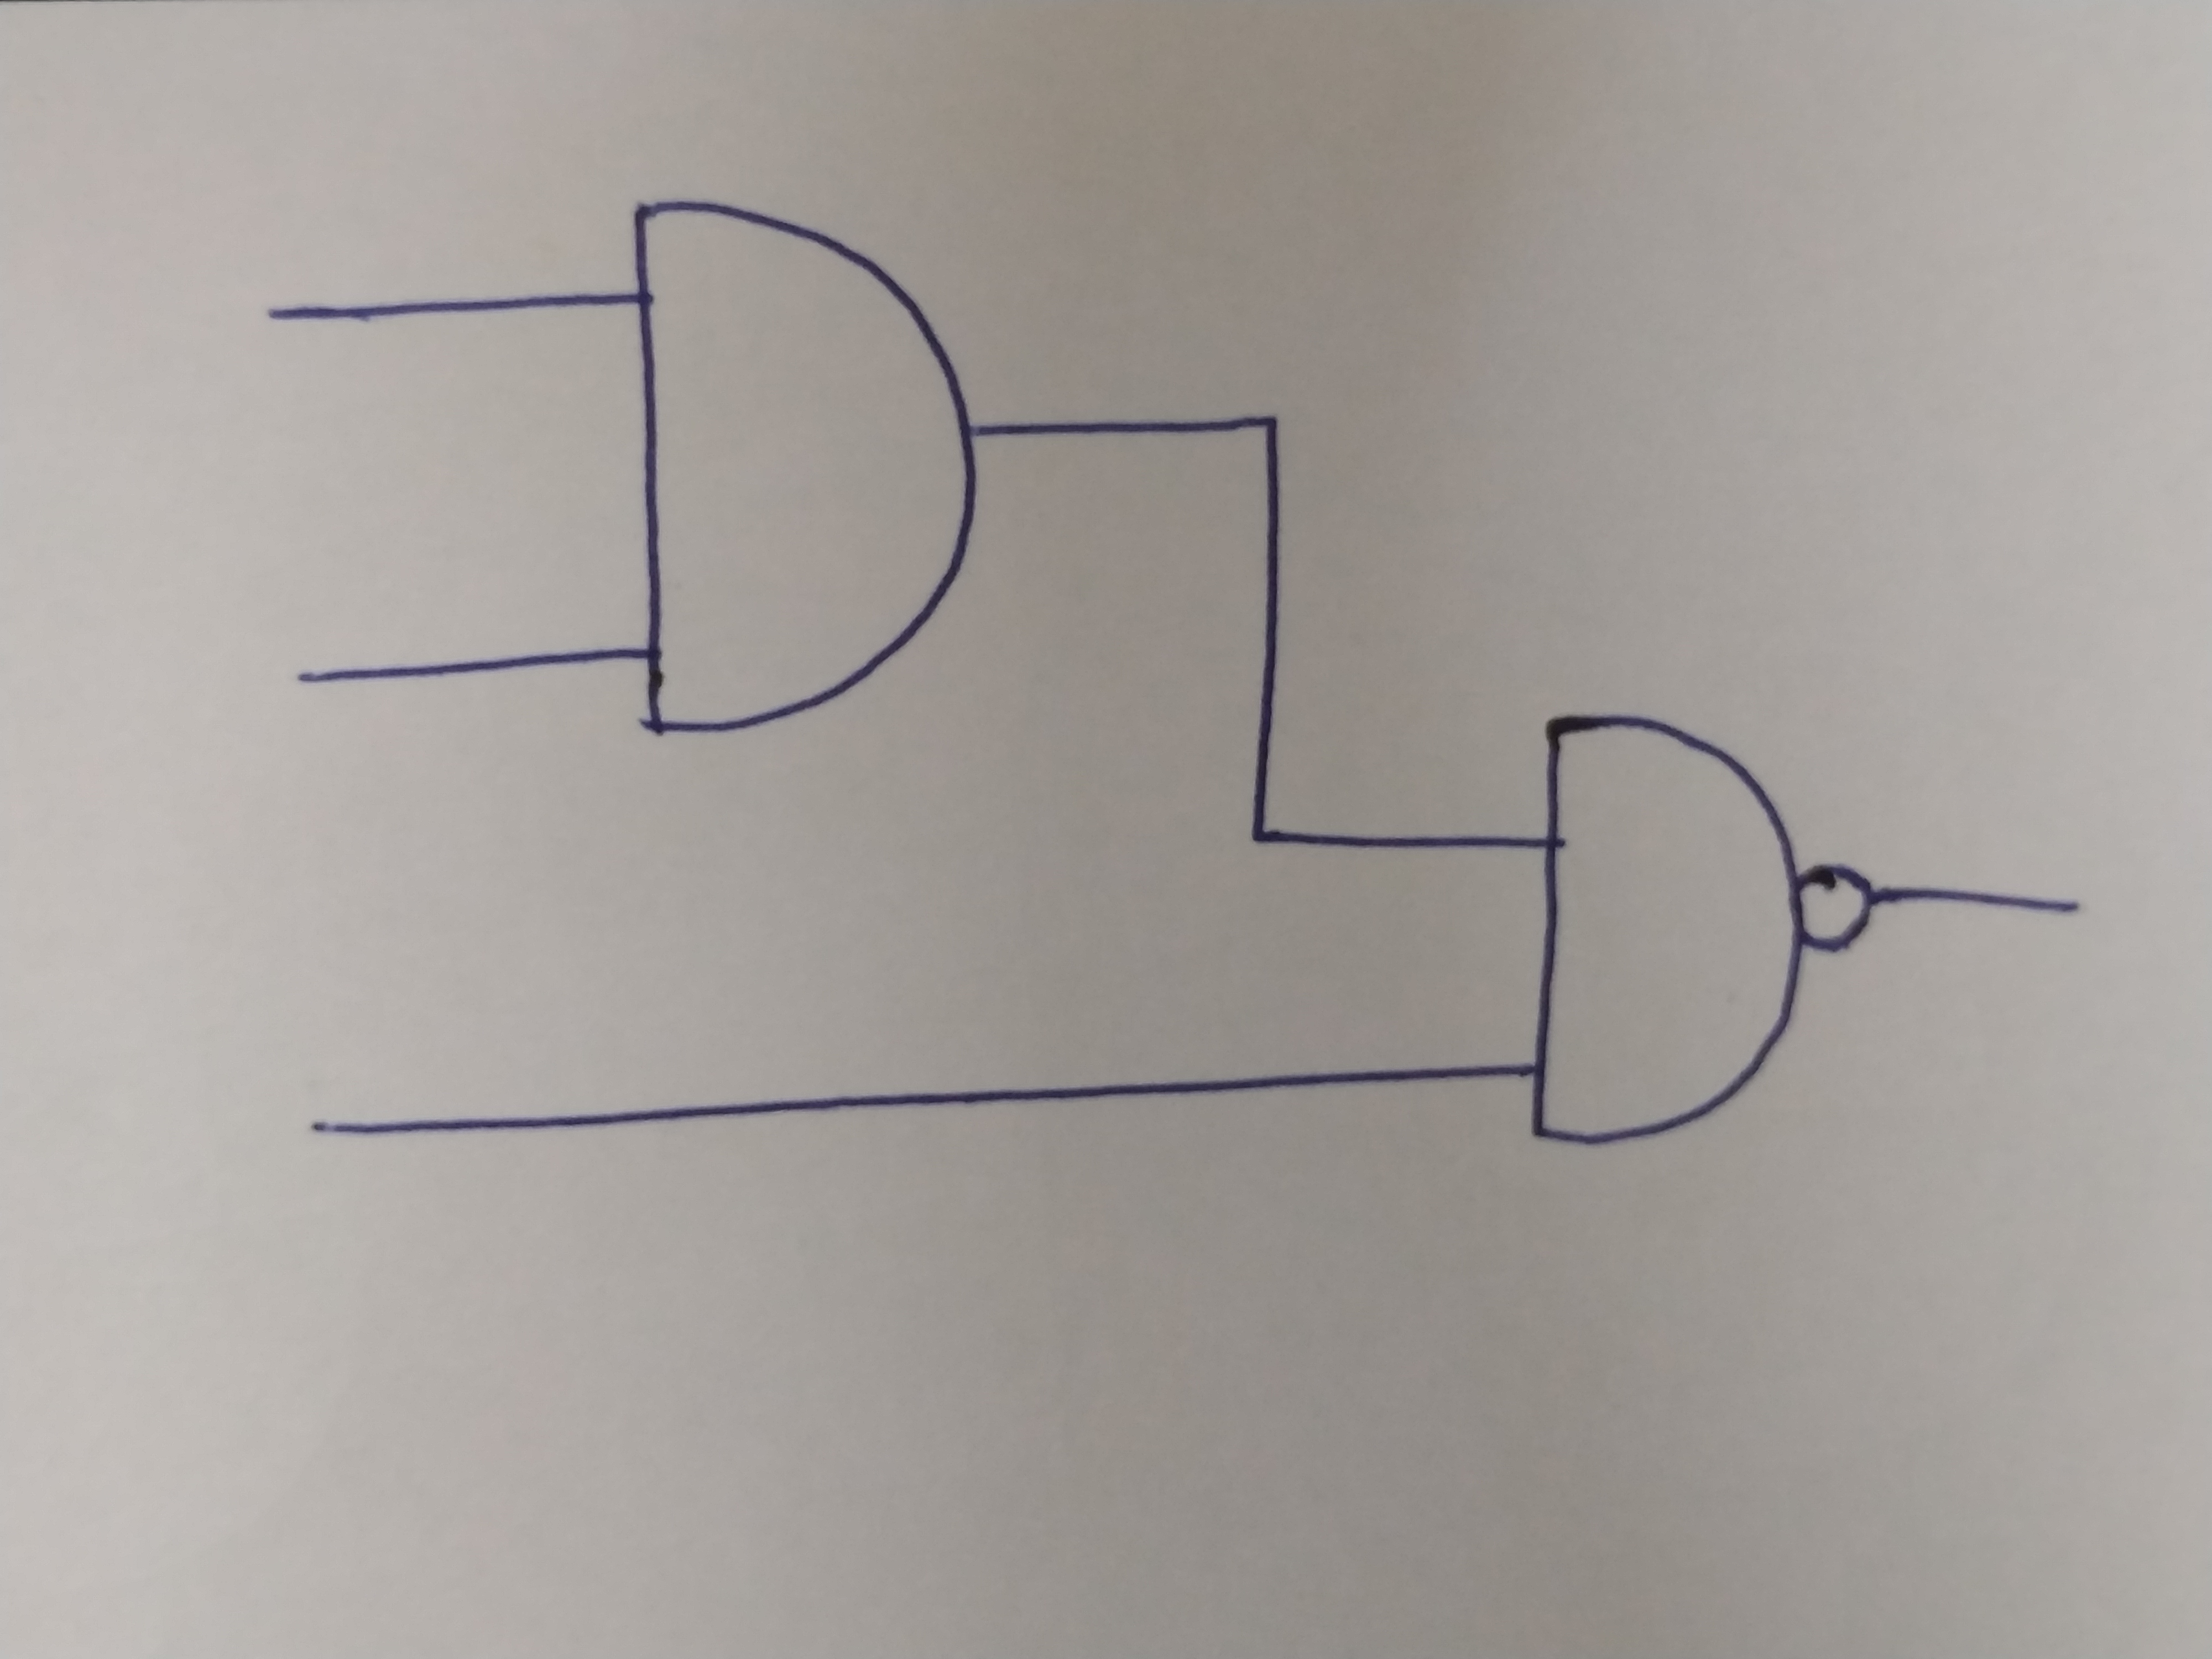and: (629, 190, 968, 732), (1536, 714, 1799, 1147)
not: (1806, 861, 1872, 946)
